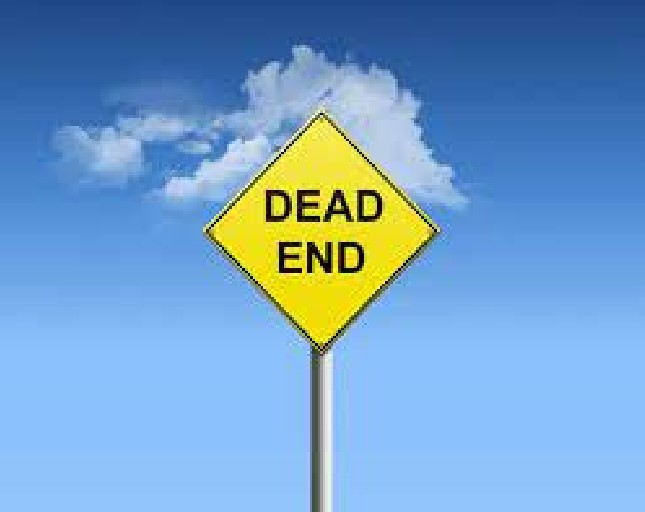Deadend: (204, 106, 443, 357)
